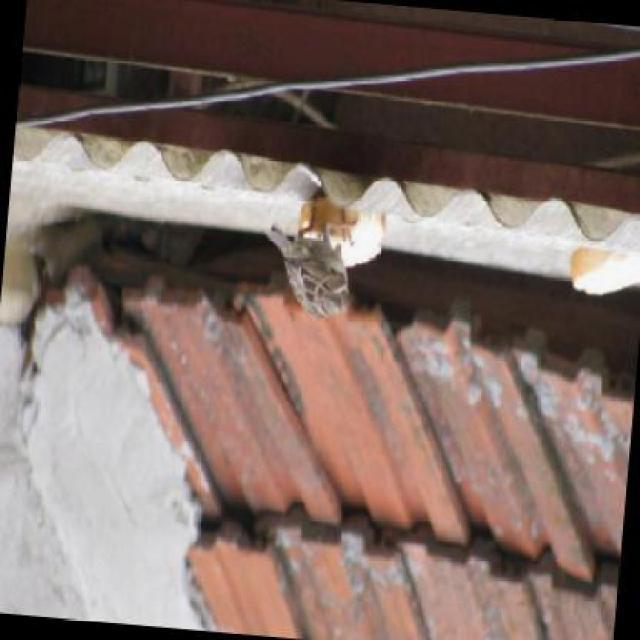Bird: (260, 212, 364, 334)
